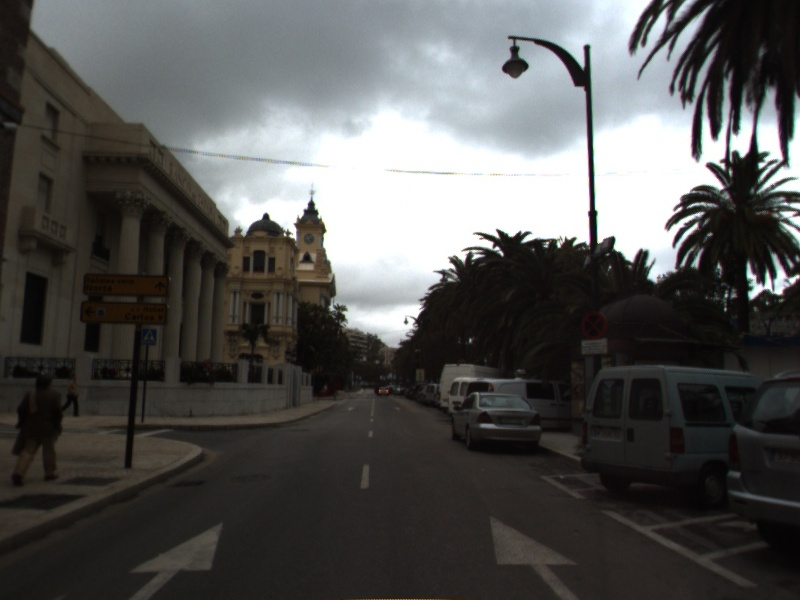STRAIGHT: (122, 517, 226, 600), (485, 512, 583, 600)
